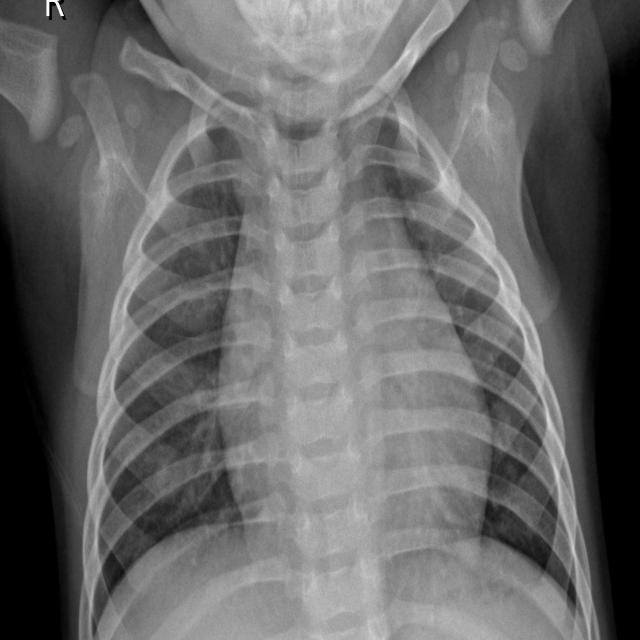normal_lung: (1, 0, 640, 640)
